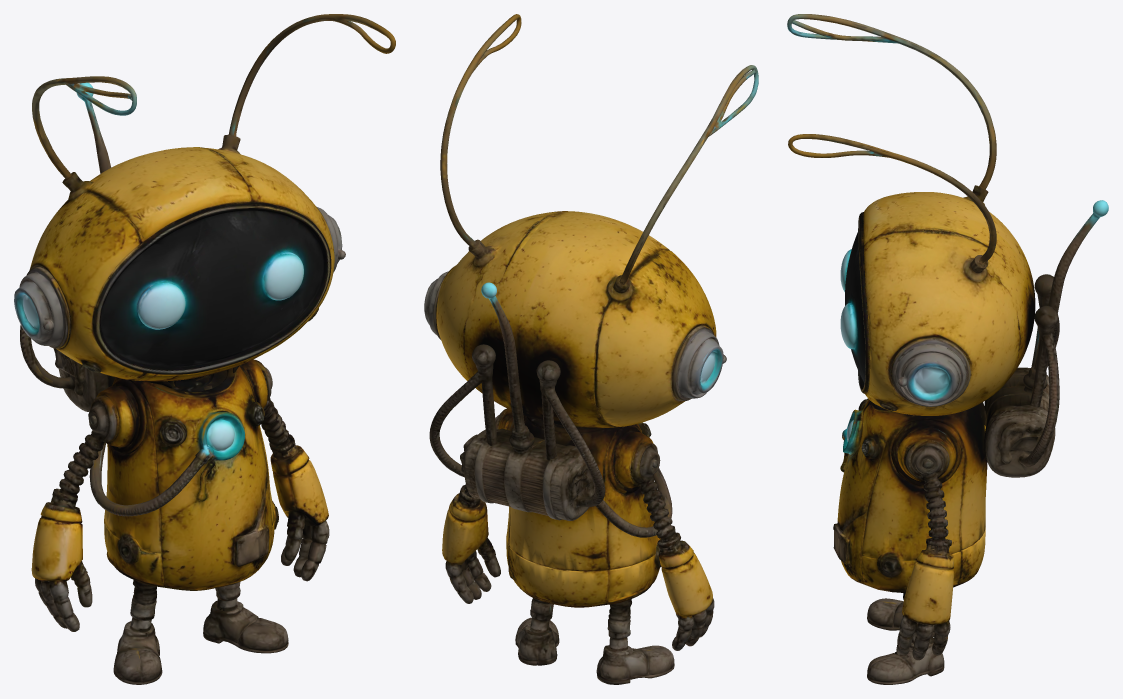
Rendered from ancap_bug.glb.
3 renders of one model, left to right at view 1: azimuth 30°, elevation 25°; view 2: azimuth 150°, elevation 25°; view 3: azimuth 270°, elevation 25°, orthographic. The views are drawn at different scales.
Visible parts, largest first — view 1: material; view 2: material; view 3: material.
Part boxes in pixels (box(x1,y1,x2,y2)): material: box(14, 14, 395, 684); material: box(424, 14, 758, 684); material: box(787, 14, 1108, 684).
Size of the model in its own units: 0.5104 by 1.02 by 0.5106.
Materials: 1 (1 with a texture image).
